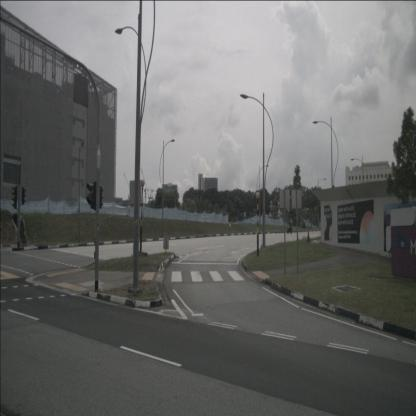movable_object-trafficcone: (306, 231, 310, 245)
vehicle-motorcycle: (287, 218, 293, 234)
